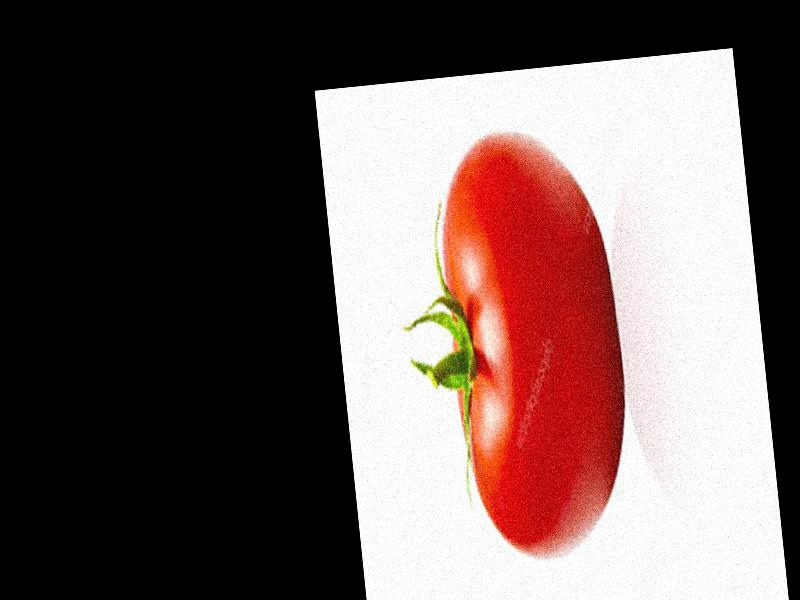Tomato: (431, 120, 640, 566)
